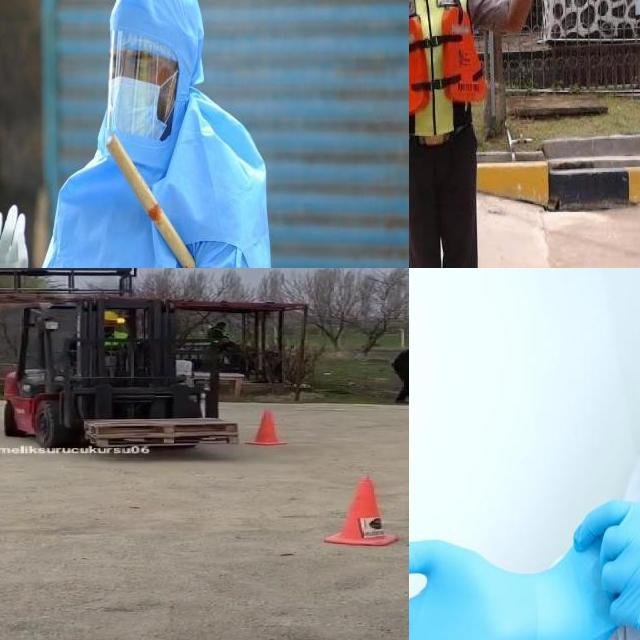GLOVE: (409, 537, 566, 640), (572, 494, 640, 640)
Glove: (0, 203, 31, 268)
MASK: (108, 76, 169, 138)
VEST: (409, 0, 488, 147)
